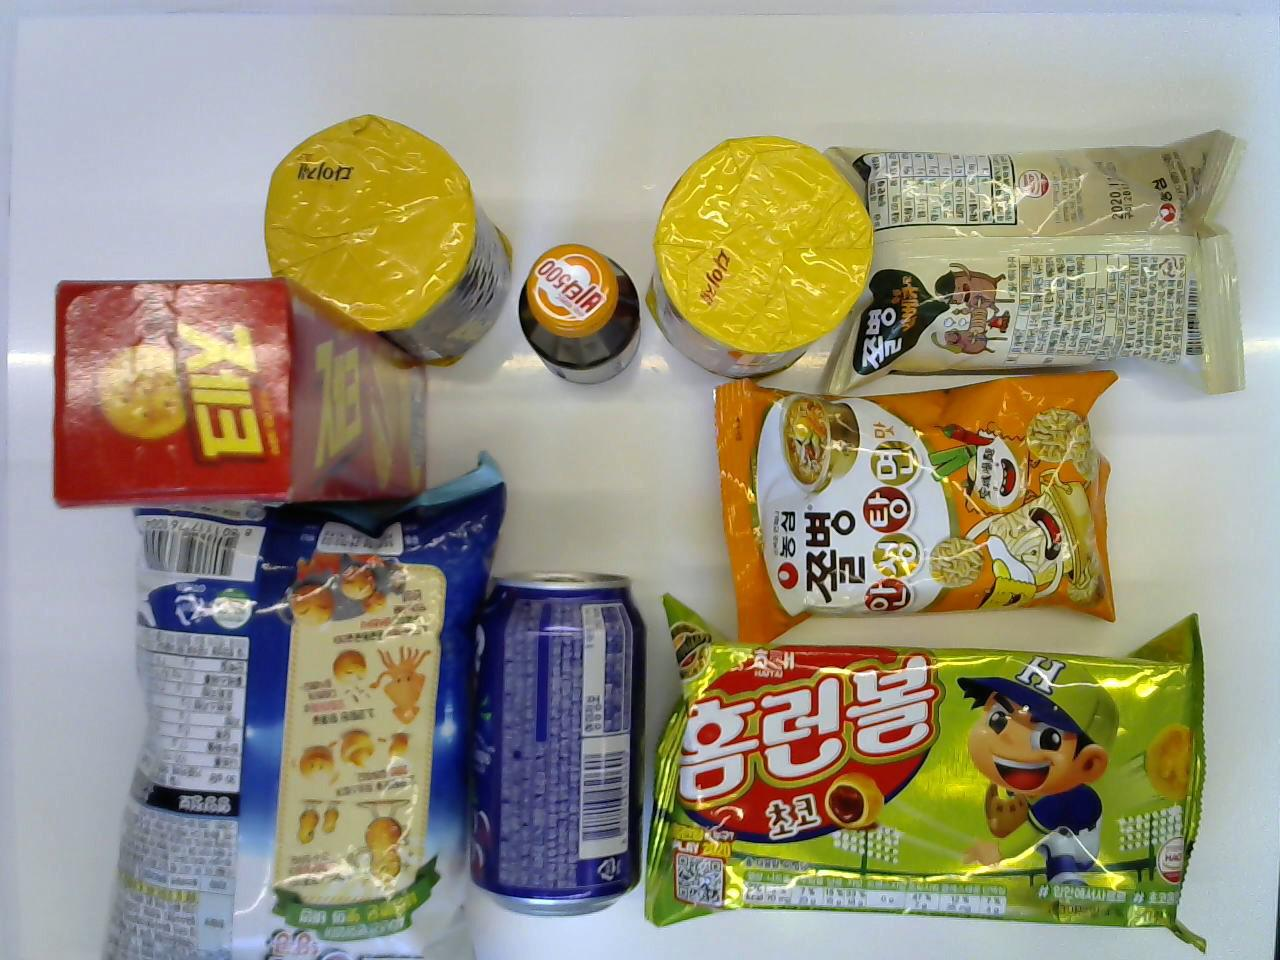diget_choco: (260, 112, 515, 371)
diget_ori: (647, 121, 866, 394)
homerunball: (642, 594, 1222, 957)
jjolbyung_noodle: (703, 368, 1128, 630)
jjolbyung_ori: (815, 118, 1250, 398)
squid_peanut: (98, 453, 509, 956)
vita500: (517, 240, 648, 388)
welchs: (464, 568, 655, 918)
zec: (49, 275, 425, 505)
